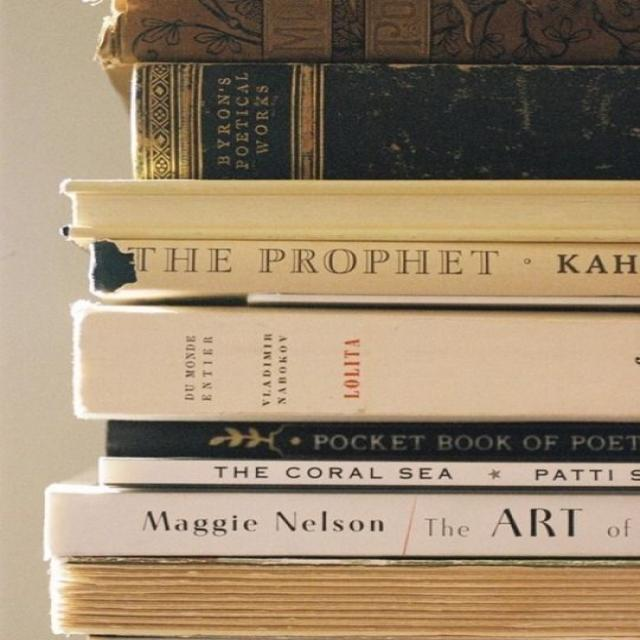book: (75, 305, 640, 419), (134, 63, 640, 175), (98, 0, 639, 92), (46, 561, 640, 636), (46, 490, 640, 560), (63, 179, 640, 241), (93, 237, 640, 299), (107, 420, 640, 460), (99, 455, 640, 485)
